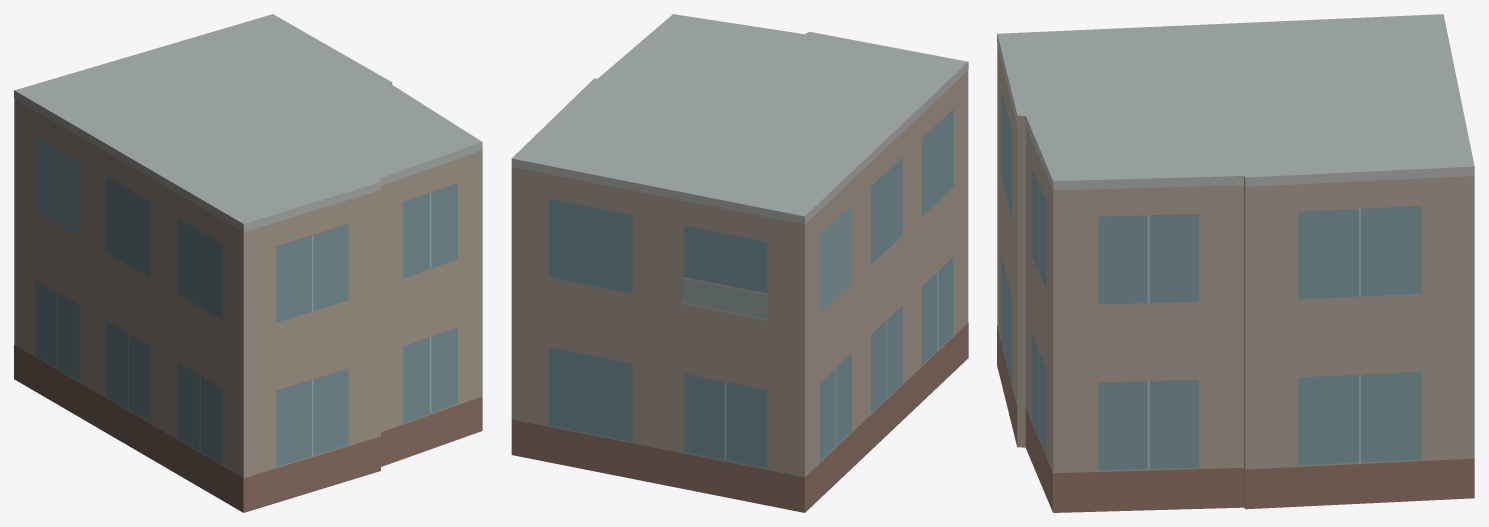
The model's file is survey-upis-32631018.glb.
3 renders of one model, left to right at view 1: azimuth 30°, elevation 25°; view 2: azimuth 150°, elevation 25°; view 3: azimuth 270°, elevation 25°, orthographic. The views are drawn at different scales.
Visible parts, largest first — view 1: survey-upis-32631018.tmp; view 2: survey-upis-32631018.tmp; view 3: survey-upis-32631018.tmp.
Boxes of the visible parts, box(x1,y1,x2,y2) form: survey-upis-32631018.tmp: box(14, 14, 482, 512); survey-upis-32631018.tmp: box(511, 14, 968, 512); survey-upis-32631018.tmp: box(997, 14, 1474, 512).
Size of the model in its own units: 9.42 by 8.7 by 11.36.
